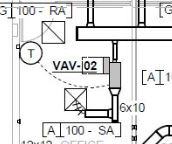VAV: (101, 54, 126, 97)
